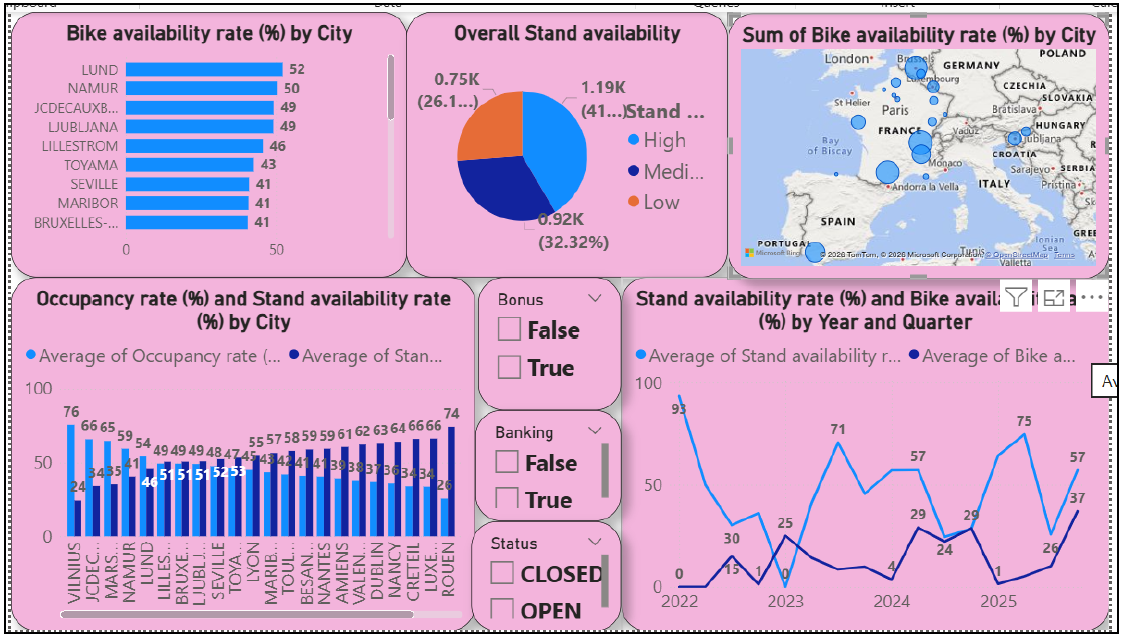

This screenshot's page, from the dashboard's own definition file:
{"tool":"powerbi","page":{"name":"Dashboard","canvas":[1280,720],"ordinal":5},"visuals":[{"type":"clusteredBarChart","title":"Bike availability rate (%) by City","fields":{"Category":["Fact.City"],"Y":["Avg(Fact.Bike availability rate (%))"]},"box":[0,0,461.5,309.3],"z":0},{"type":"pieChart","title":"Overall Stand availability ","fields":{"Category":["Fact.Stand availabily"],"Y":["CountNonNull(Fact.Stand availabily)"]},"box":[459.9,0,375.7,309.3],"z":1000},{"type":"clusteredColumnChart","title":"Occupancy rate (%) and Stand availability rate (%) by City","fields":{"Y":["Avg(Fact.Occupancy rate (%))","Avg(Fact.Stand availability rate (%))"],"Category":["Fact.City"]},"box":[0,309.3,540.8,411.3],"z":2000},{"type":"map","fields":{"Category":["Fact.City"],"Size":["Sum(Fact.Bike availability rate (%))"]},"box":[835.5,1.6,445.3,309.3],"z":3000},{"type":"lineChart","title":"Stand availability rate (%) and Bike availability rate (%) by Year and Quarter","fields":{"Y":["Avg(Fact.Stand availability rate (%))","Avg(Fact.Bike availability rate (%))"],"Category":["Fact.Last updated Date.Variation.Date Hierarchy.Year","Fact.Last updated Date.Variation.Date Hierarchy.Quarter","Fact.Last updated Date.Variation.Date Hierarchy.Month","Fact.Last updated Date.Variation.Date Hierarchy.Day"]},"box":[710.8,309.3,570,411.3],"z":4000},{"type":"slicer","fields":{"Values":["Fact.Bonus"]},"box":[544.1,309.3,166.8,153.8],"z":5000},{"type":"slicer","fields":{"Values":["Fact.Banking"]},"box":[540.8,463.1,170,129.5],"z":6000},{"type":"slicer","fields":{"Values":["Fact.Status"]},"box":[536,592.6,174.9,127.9],"z":7000}]}

Visuals, with their boxes in screenshot pixels (x1, y1, x2, y2), scaled from the page's 1280x720 canvas onto the 1121x639 screenshot:
"Bike availability rate (%) by City" clusteredBarChart: <bbox>0, 0, 404, 275</bbox>
"Overall Stand availability " pieChart: <bbox>403, 0, 732, 275</bbox>
"Occupancy rate (%) and Stand availability rate (%) by City" clusteredColumnChart: <bbox>0, 275, 474, 638</bbox>
map - Fact.City x Sum(Fact.Bike availability rate (%)): <bbox>732, 1, 1120, 276</bbox>
"Stand availability rate (%) and Bike availability rate (%) by Year and Quarter" lineChart: <bbox>623, 275, 1120, 638</bbox>
slicer - Fact.Bonus: <bbox>477, 275, 623, 411</bbox>
slicer - Fact.Banking: <bbox>474, 411, 623, 526</bbox>
slicer - Fact.Status: <bbox>469, 526, 623, 638</bbox>
